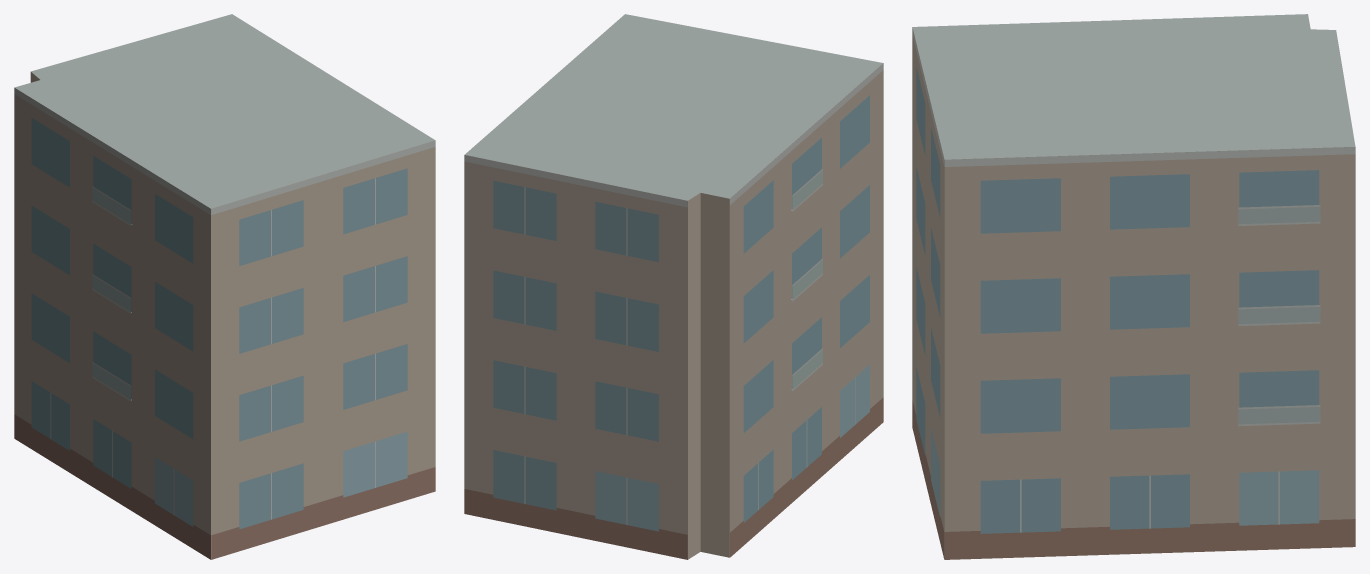
File: survey-upis-32638243.glb
The picture shows the model from 3 angles, left to right: view 1: azimuth 30°, elevation 25°; view 2: azimuth 150°, elevation 25°; view 3: azimuth 270°, elevation 25°; orthographic projection. The views are drawn at different scales.
Visible parts, largest first — view 1: survey-upis-32638243.tmp; view 2: survey-upis-32638243.tmp; view 3: survey-upis-32638243.tmp.
Part boxes in pixels (x1,y1,x2,y2): survey-upis-32638243.tmp: (14, 14, 435, 559); survey-upis-32638243.tmp: (464, 14, 883, 559); survey-upis-32638243.tmp: (912, 14, 1355, 559).
Size of the model in its own units: 10.31 by 13.2 by 13.26.
